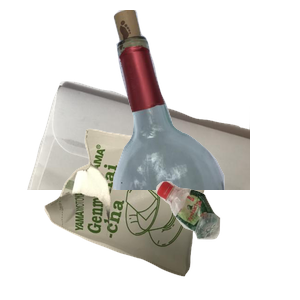glass: (89, 10, 300, 190)
paper: (25, 79, 265, 259)
plastic: (153, 178, 300, 300)
trash: (42, 126, 249, 300)
